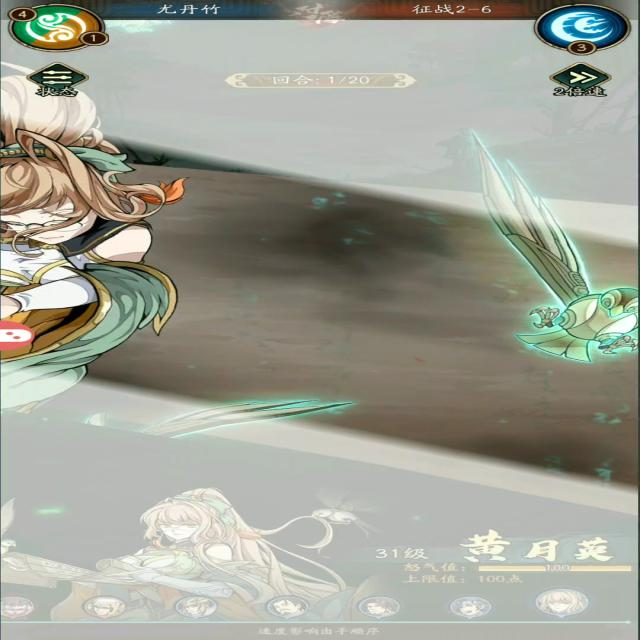hint-guide: (240, 614, 394, 640)
operation-fightspeed: (526, 65, 610, 98)
operation-status: (26, 60, 100, 100)
